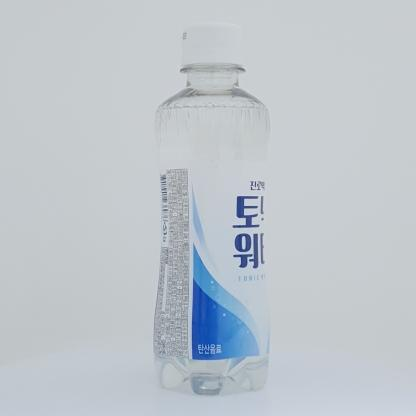----------300ML: (154, 22, 270, 395)
